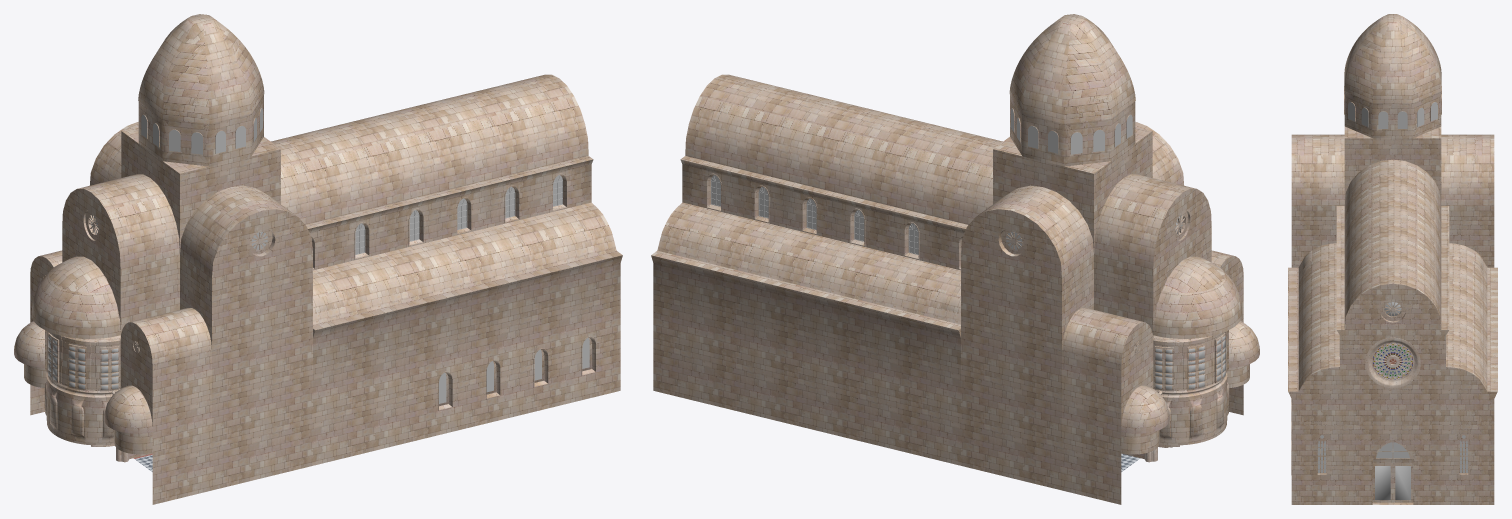
The model's file is sibenik_pelz.fbx.
3 views of the same model, side by side, from view 1: azimuth 30°, elevation 25°; view 2: azimuth 150°, elevation 25°; view 3: azimuth 270°, elevation 25° (orthographic). The views are drawn at different scales.
Visible parts, largest first — view 1: object; view 2: object; view 3: object.
Part boxes in pixels (box(x1,y1,x2,y2)): object: box(14, 14, 622, 504); object: box(651, 14, 1259, 504); object: box(1288, 14, 1497, 504).
Bounding box in the file's own units: 40.28 × 30.6 × 16.99.
15 materials, 8 textured.
